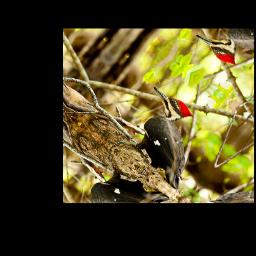Woodpecker: (108, 82, 224, 191)
